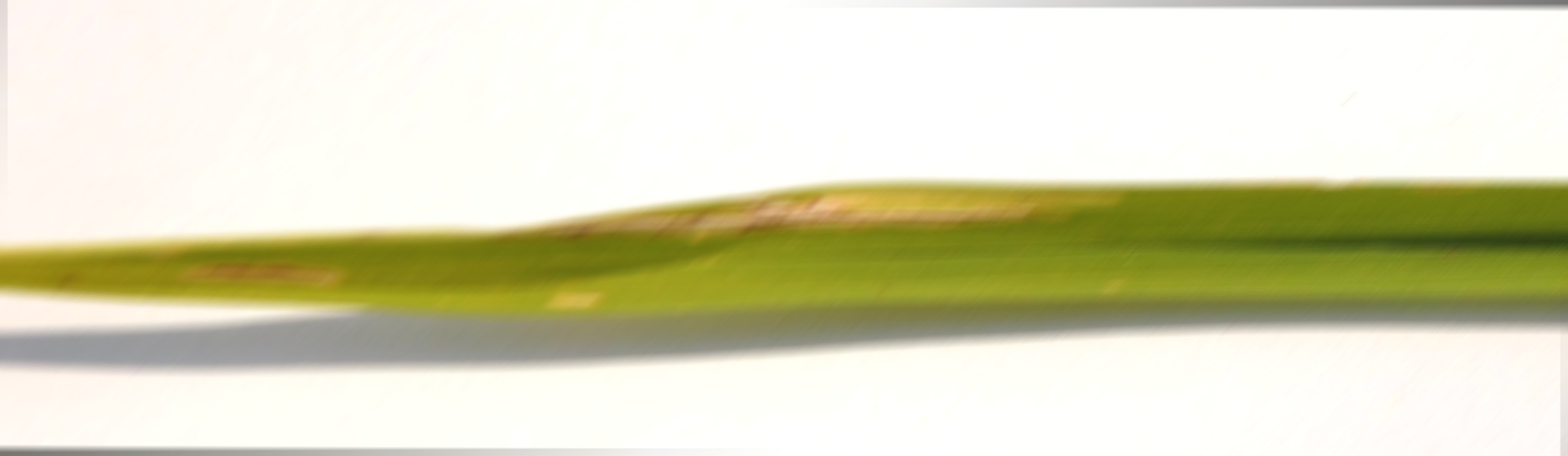Leaf_Blast: (43, 208, 638, 316), (547, 178, 1184, 241)
